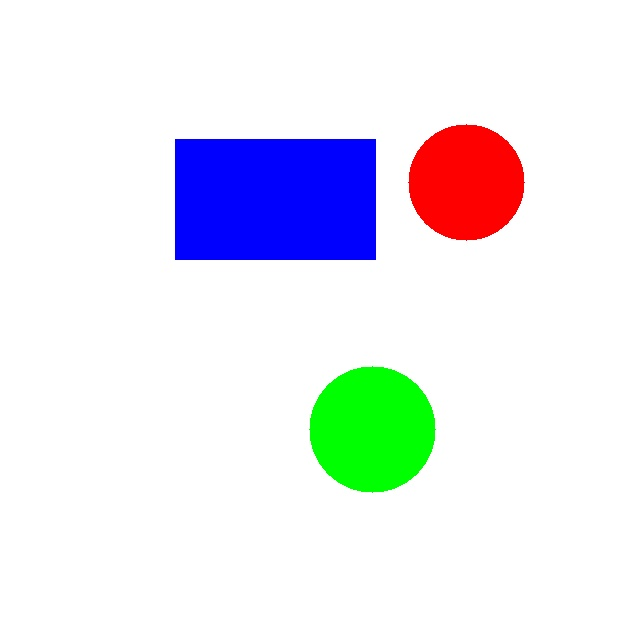cartao: (175, 139, 375, 259)
rosca_externa: (309, 366, 435, 492)
rosca_interna: (408, 124, 524, 240)
